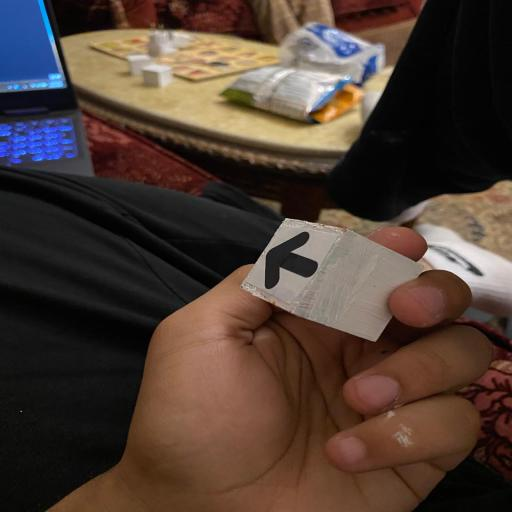Back: (238, 218, 422, 342)
